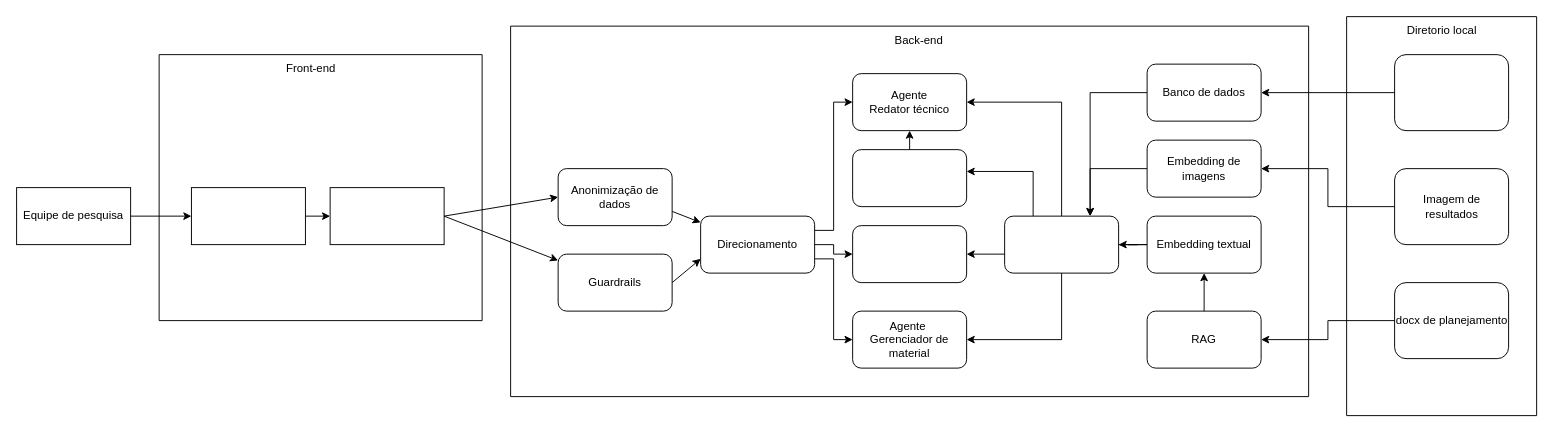
Some shapes in this 1553 by 432 pixel diagram are drawn without their labels. Here are the shapes that lost their labels. From the top down, the box of each, then its label:
(1394, 54, 1509, 131): xlsx de resultados
(852, 149, 967, 207): Modelo de VC
(190, 187, 305, 245): Login
(329, 187, 444, 245): Chat (múltiplas agentes)
(852, 225, 967, 283): Agente Analista de dados
(1004, 215, 1119, 273): Atualização
